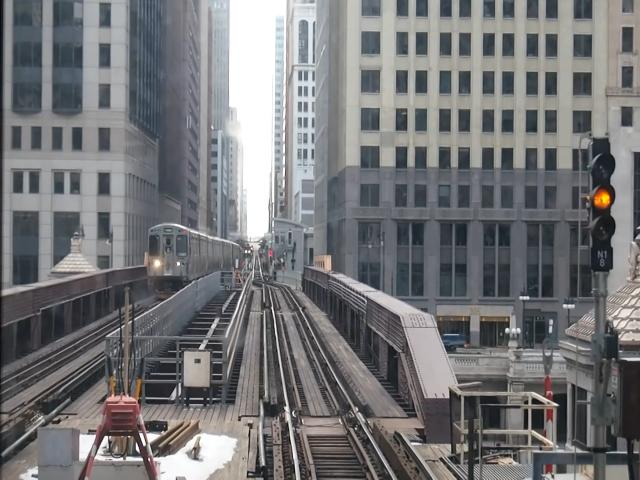signal light: (589, 136, 618, 278)
